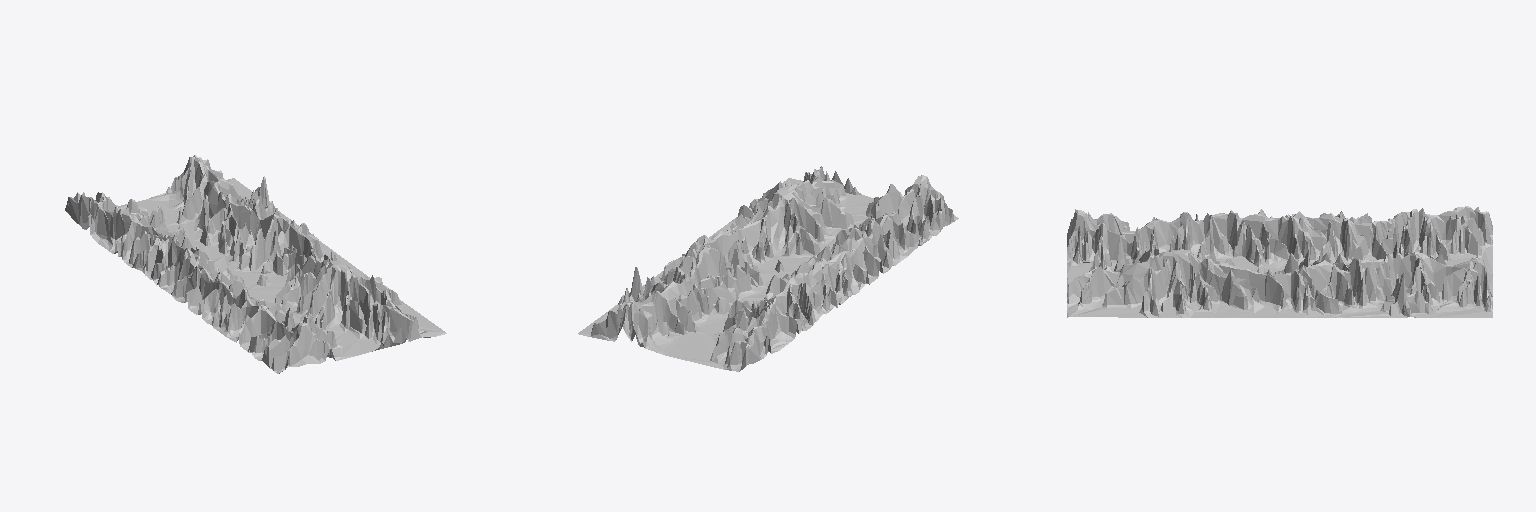
The model's file is L_LavaWorldPiece_c.obj.
The picture shows the model from 3 angles: view 1: azimuth 30°, elevation 25°; view 2: azimuth 150°, elevation 25°; view 3: azimuth 270°, elevation 25°; orthographic projection.
Parts seen in each view (by area): view 1: L_LavaWorldPiece_c; view 2: L_LavaWorldPiece_c; view 3: L_LavaWorldPiece_c.
Boxes of the visible parts, x1=… form: L_LavaWorldPiece_c: x1=65, y1=155, x2=446, y2=373; L_LavaWorldPiece_c: x1=578, y1=166, x2=958, y2=371; L_LavaWorldPiece_c: x1=1067, y1=206, x2=1492, y2=317.
Bounding box in the file's own units: 1072 × 251 × 2341.